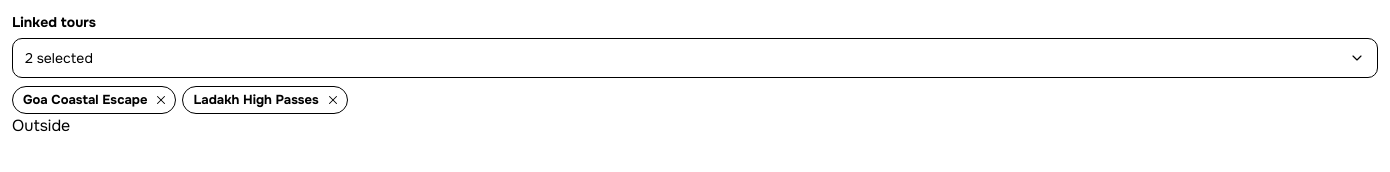
Test case: MultiSelect › removes a choice from its chip without opening the list
The width and height of the screenshot is (1390, 172).
Click the button named "Remove Goa Coastal Escape". click: (161, 100)
box: left=151, top=90, right=171, bottom=110
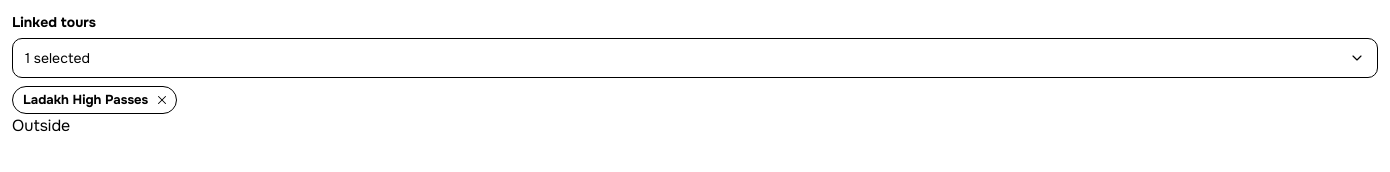
Now the button named "Linked tours" reads "1 selected", box left=12, top=38, right=1378, bottom=78
